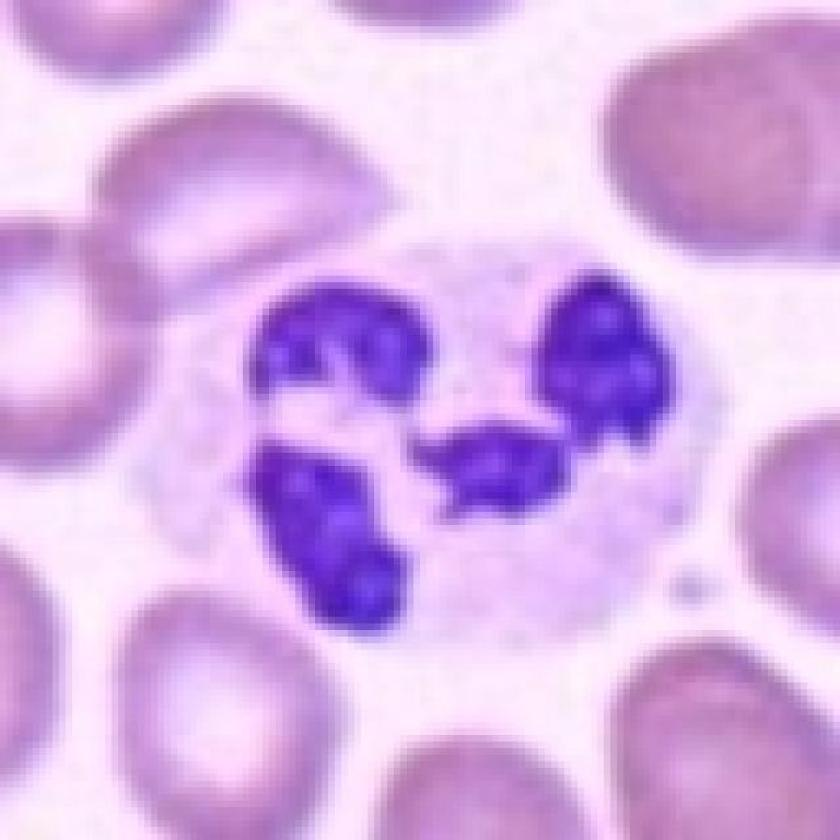neutrophil: (133, 229, 726, 656)
